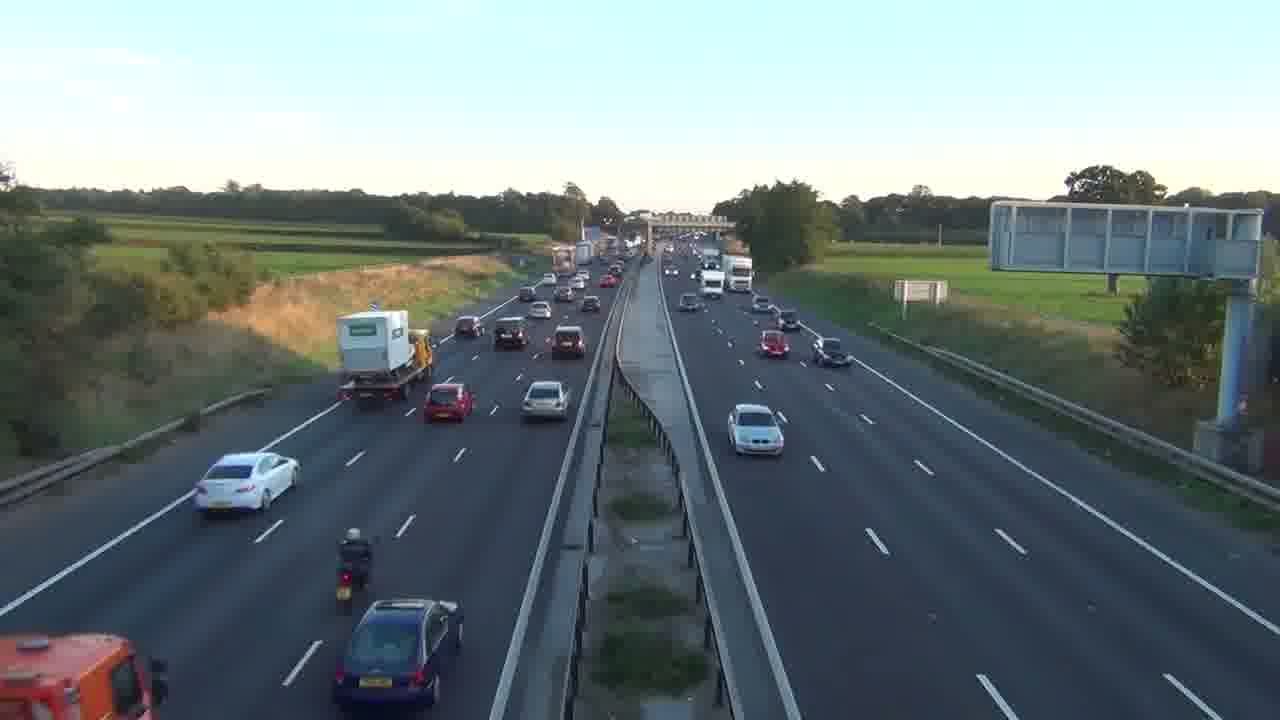car: (332, 596, 464, 710), (192, 452, 299, 519), (727, 402, 787, 457), (422, 381, 476, 423), (520, 379, 571, 421), (550, 324, 586, 359), (758, 330, 790, 359)
truck: (0, 631, 166, 719), (336, 309, 435, 402)
